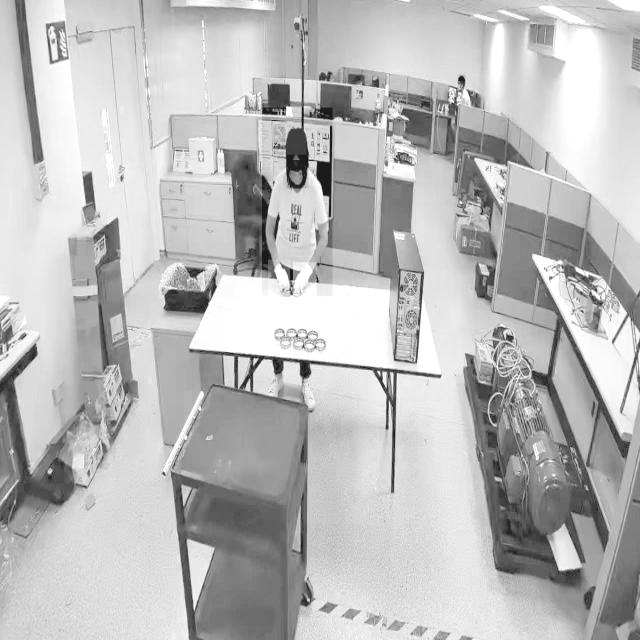face_mask: (286, 160, 308, 188)
hand_glove: (268, 260, 290, 302), (293, 262, 317, 298)
head_nohelmet: (285, 126, 307, 156), (458, 74, 466, 82)
person: (262, 107, 333, 297)
shoes: (299, 378, 317, 416), (268, 370, 284, 405)
